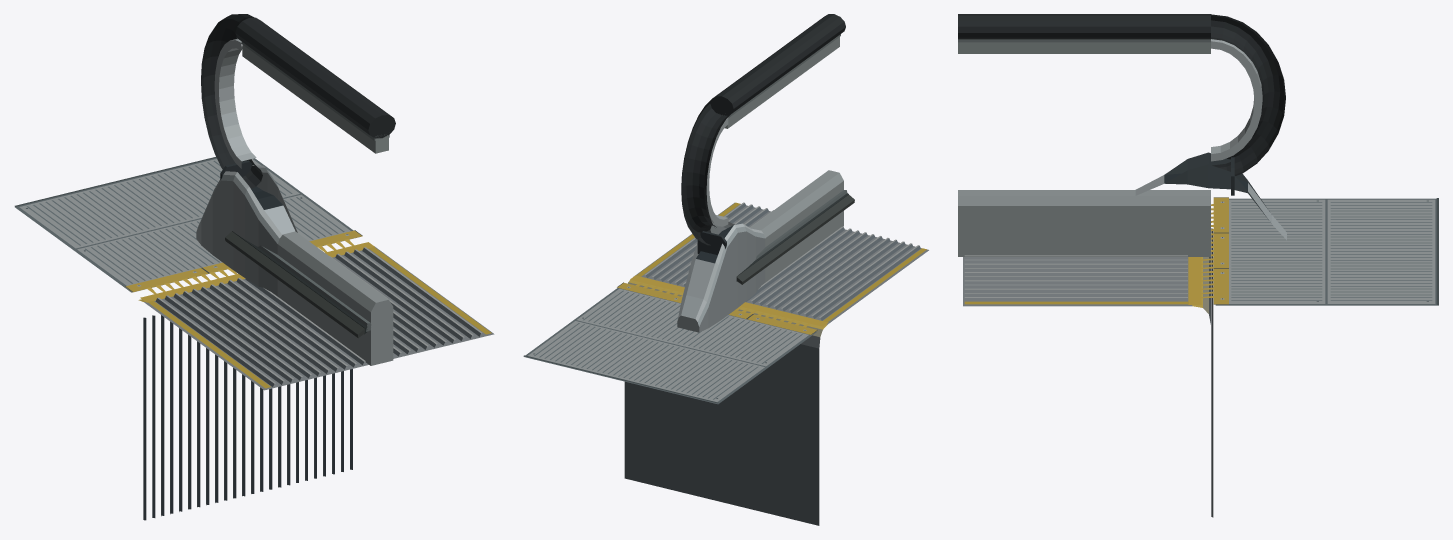
Rendered from parts.glb.
3 views of the same model, side by side, from view 1: azimuth 30°, elevation 25°; view 2: azimuth 150°, elevation 25°; view 3: azimuth 270°, elevation 25° (orthographic). The views are drawn at different scales.
Parts seen in each view (by area): view 1: Tread, Comb, Skirt, Return; view 2: Tread, Comb, Skirt, Return; view 3: Skirt, Comb, Tread, Return.
Boxes of the visible parts, bbox=[...] form: Tread: bbox=[138, 242, 494, 520]; Comb: bbox=[14, 157, 362, 294]; Skirt: bbox=[225, 17, 395, 365]; Return: bbox=[196, 14, 297, 296]; Tread: bbox=[624, 202, 928, 525]; Comb: bbox=[523, 282, 817, 404]; Skirt: bbox=[710, 14, 854, 284]; Return: bbox=[677, 99, 765, 332]; Skirt: bbox=[958, 14, 1210, 256]; Comb: bbox=[1201, 197, 1438, 305]; Tread: bbox=[963, 228, 1213, 517]; Return: bbox=[1135, 14, 1286, 239].
Bounding box in the file's own units: 1 × 1.99 × 1.9.
